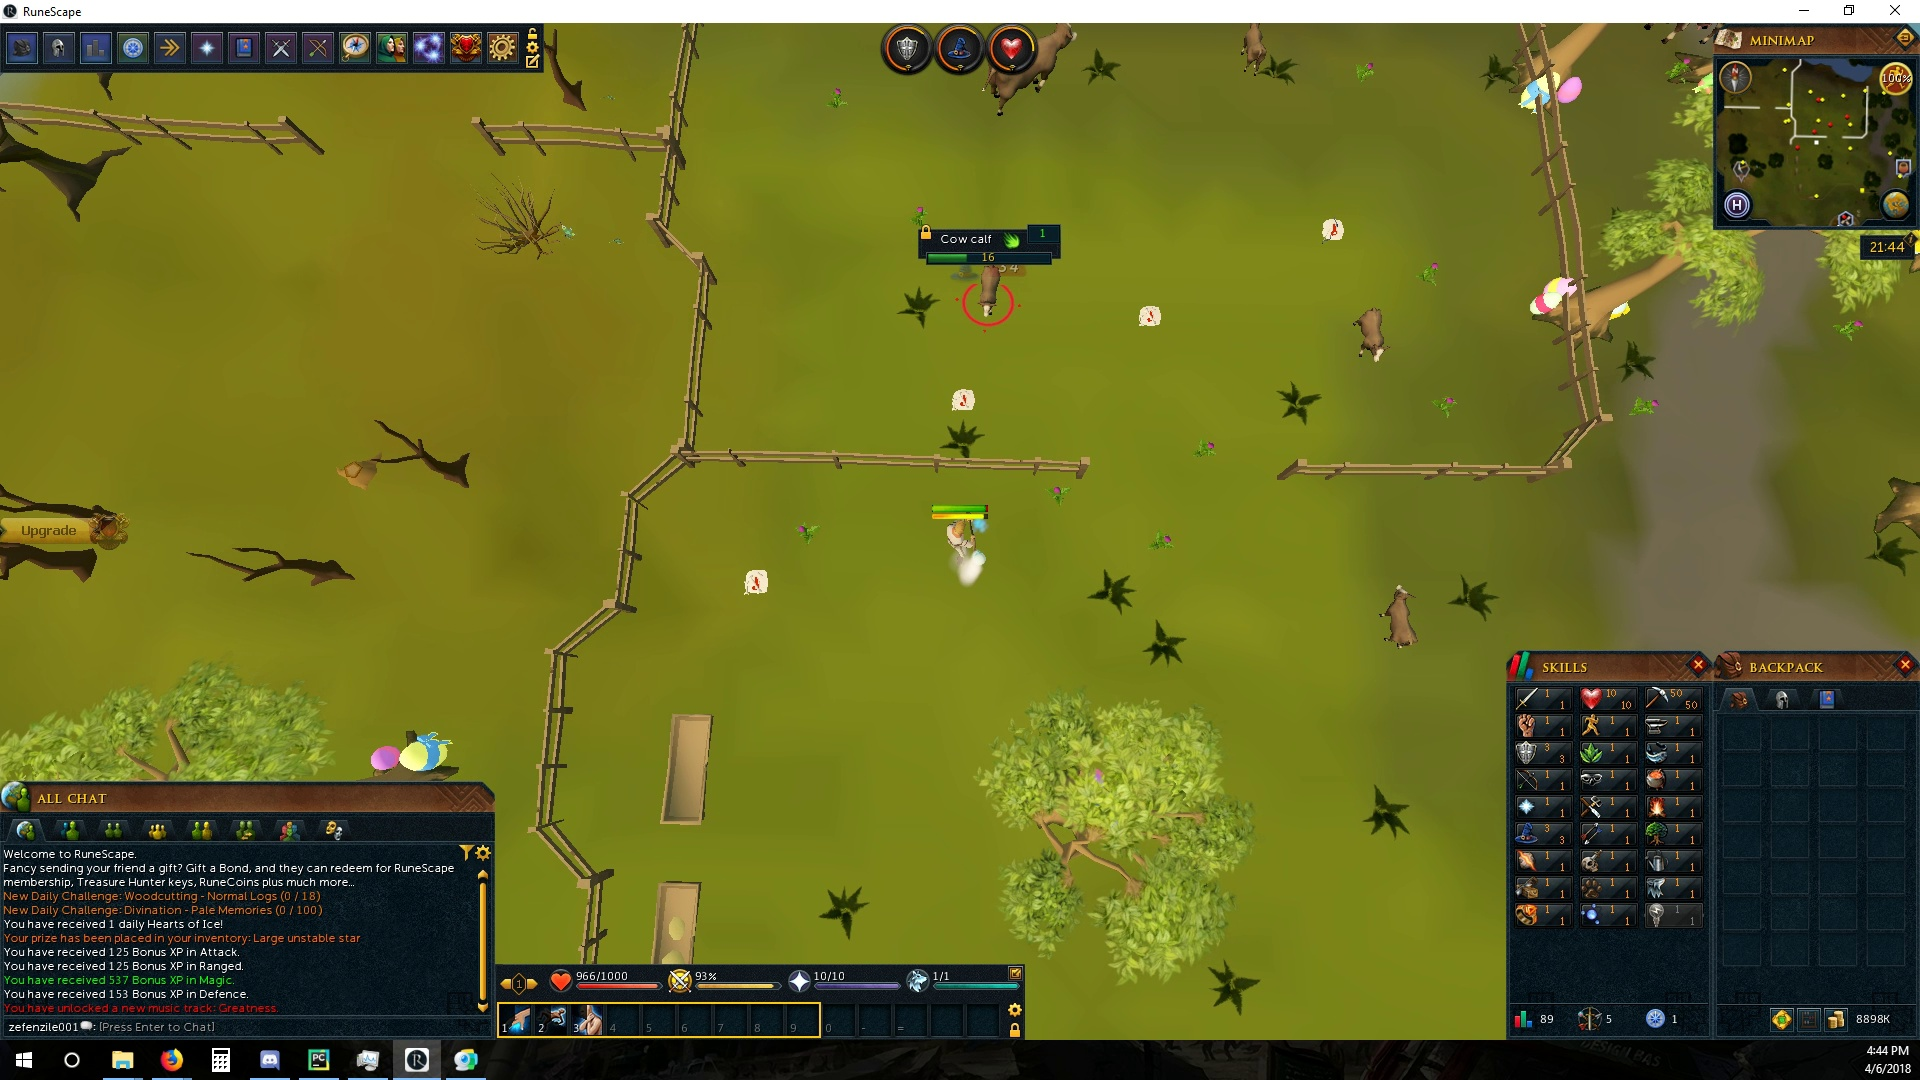calf: (1375, 582, 1418, 647), (1354, 307, 1394, 365), (1238, 22, 1269, 78), (975, 265, 1002, 319)
cow: (975, 22, 1087, 123)
cow_drop: (738, 568, 775, 593), (953, 384, 980, 415), (1317, 216, 1342, 245), (1134, 305, 1166, 327)
